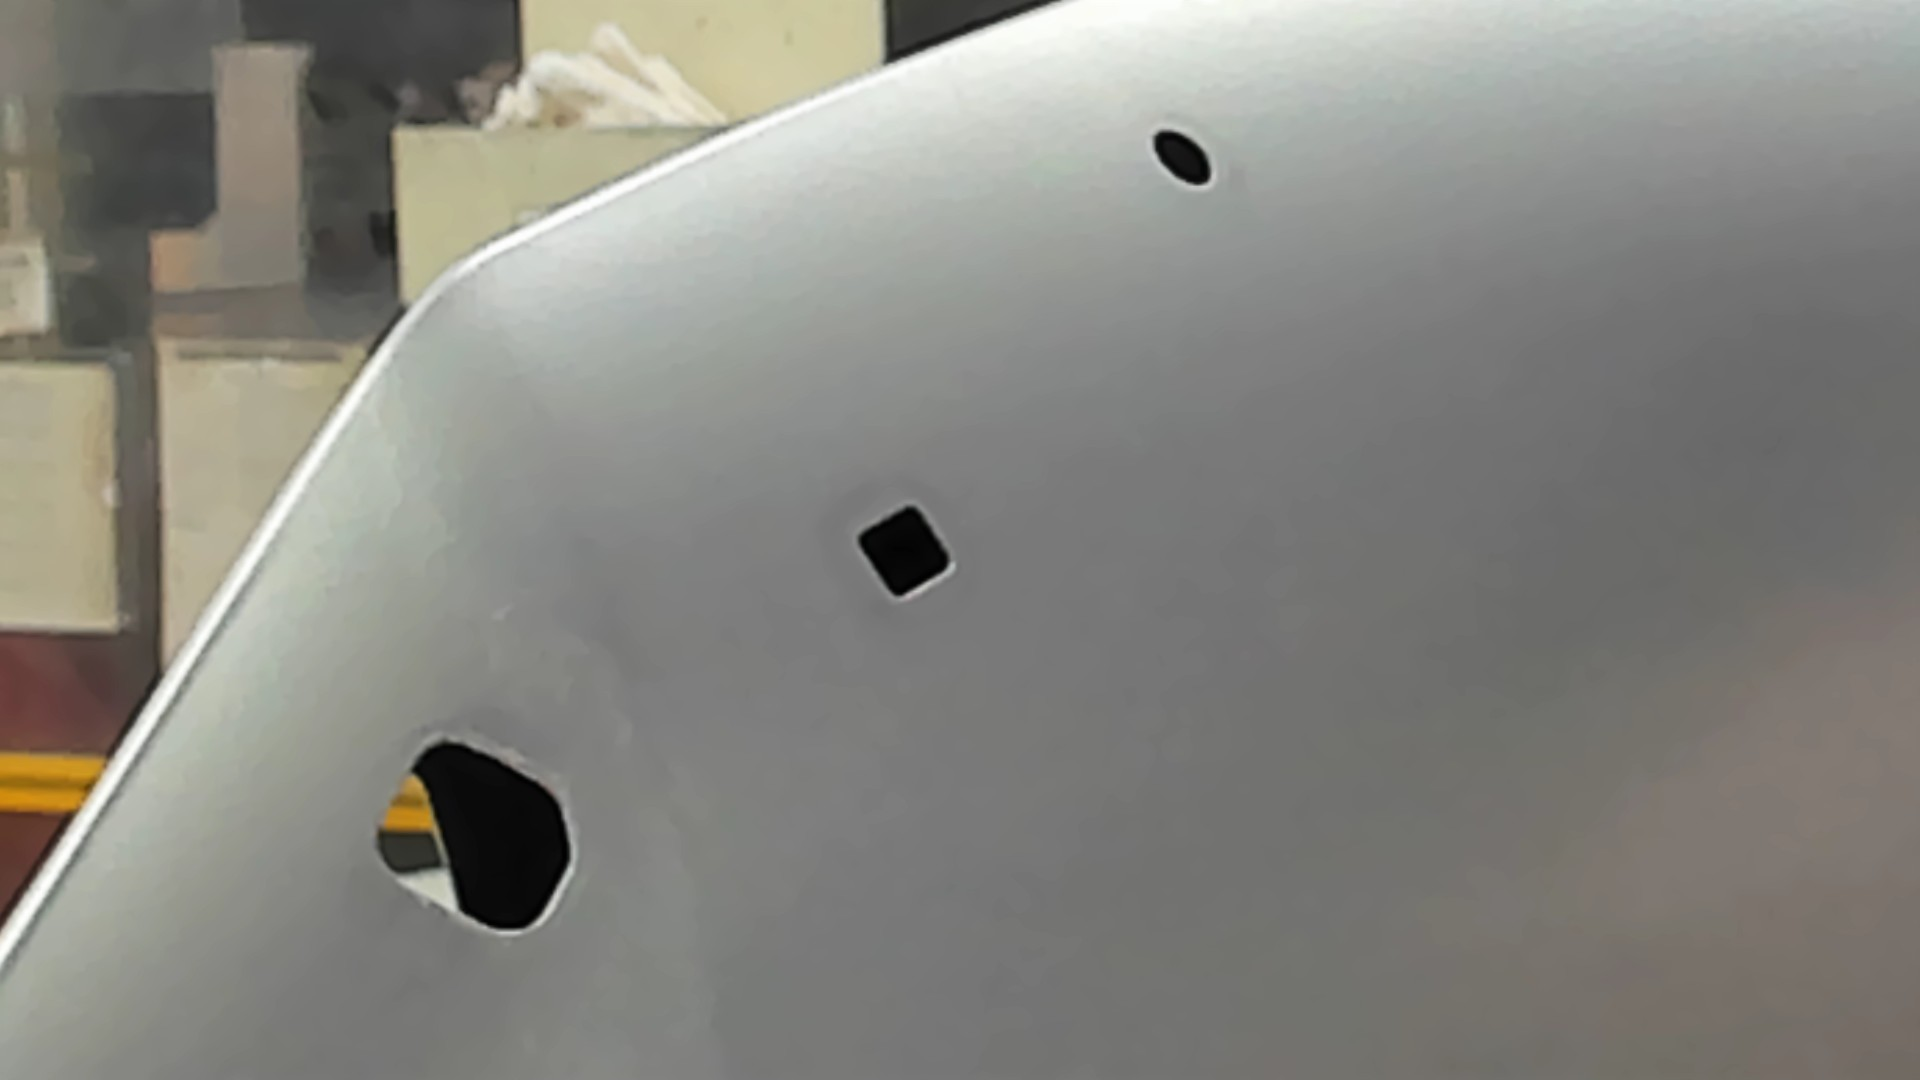chico: (1147, 127, 1216, 189)
grande: (375, 729, 584, 942)
mediano: (848, 498, 960, 607)
